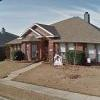Chimney: (80, 7, 93, 26)
